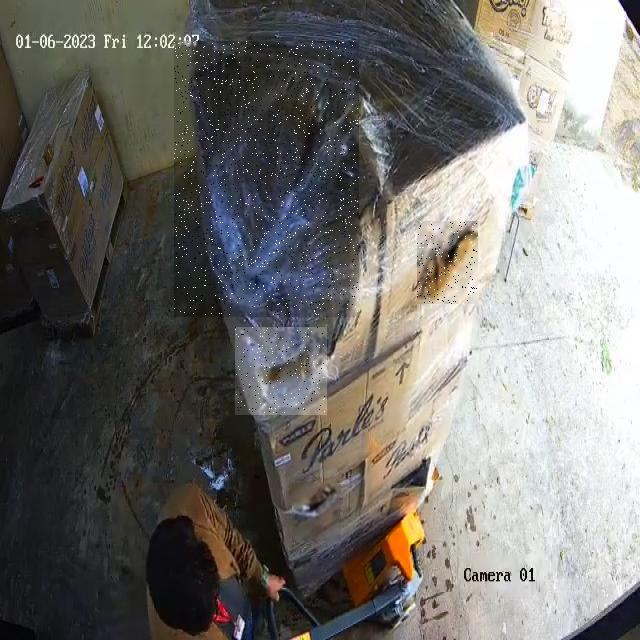leakage: (236, 328, 325, 413), (417, 221, 478, 304), (293, 484, 339, 540)
squeeze: (174, 41, 359, 315)
